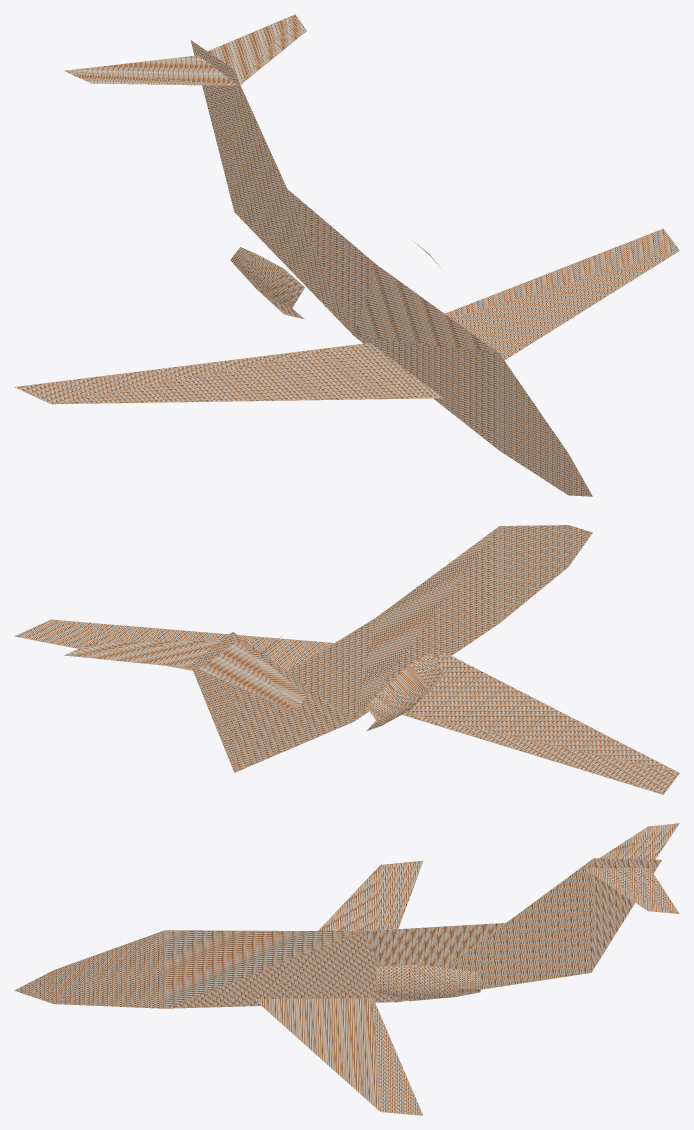
The model's file is HTAI Beechjet 400A MSFS_LOD1.gltf.
The picture shows the model from 3 angles, top to bottom: view 1: azimuth 30°, elevation 25°; view 2: azimuth 150°, elevation 25°; view 3: azimuth 270°, elevation 25°; orthographic projection. The views are drawn at different scales.
Visible parts, largest first — view 1: node30; view 2: node30; view 3: node30.
Boxes of the visible parts, x1,y1,x2,y2 form: node30: (14,14,679,496); node30: (14,525,679,794); node30: (14,823,679,1115).
Bounding box in the file's own units: 13.21 × 3.63 × 14.56.
